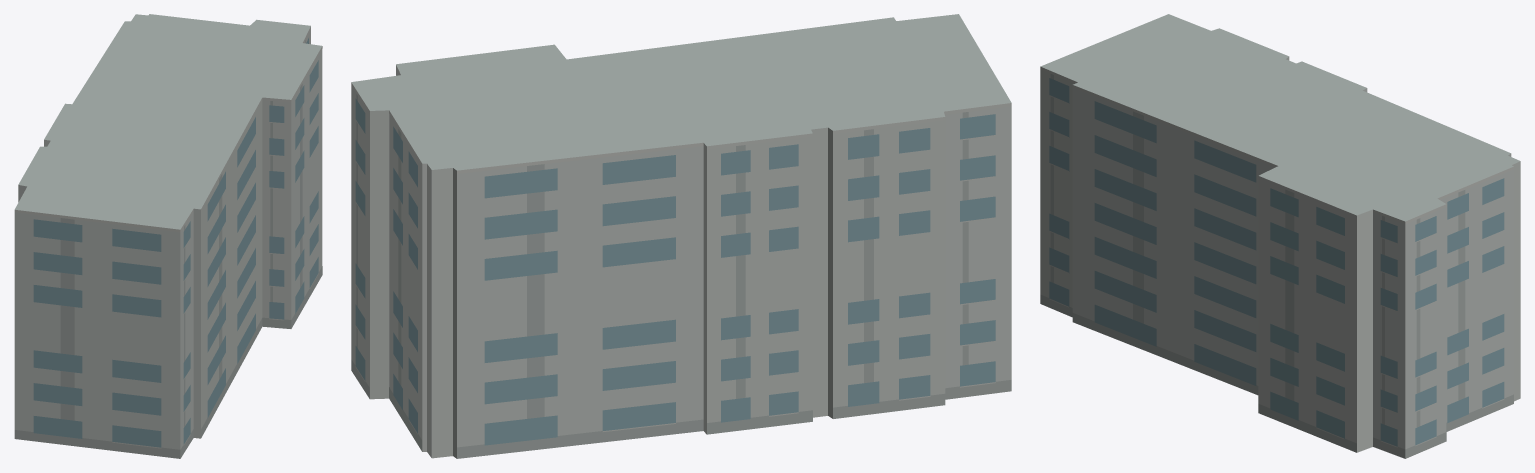
File: survey-upis-32850788.glb
3 views of the same model, side by side, from view 1: azimuth 30°, elevation 25°; view 2: azimuth 150°, elevation 25°; view 3: azimuth 270°, elevation 25° (orthographic). The views are drawn at different scales.
Visible parts, largest first — view 1: survey-upis-32850788.tmp; view 2: survey-upis-32850788.tmp; view 3: survey-upis-32850788.tmp.
Part boxes in pixels (x1,y1,x2,y2): survey-upis-32850788.tmp: (14,14,322,458); survey-upis-32850788.tmp: (351,14,1011,458); survey-upis-32850788.tmp: (1040,14,1520,458).
Bounding box in the file's own units: 39.04 × 20.81 × 38.17.
